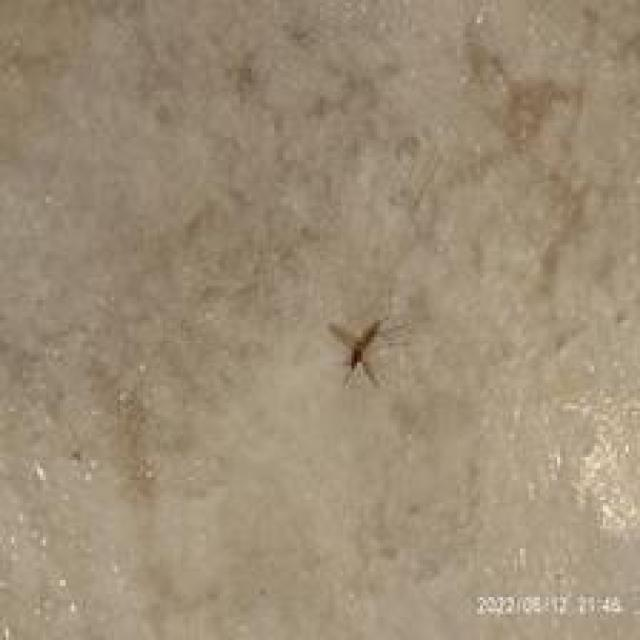Culex: (326, 316, 386, 387)
